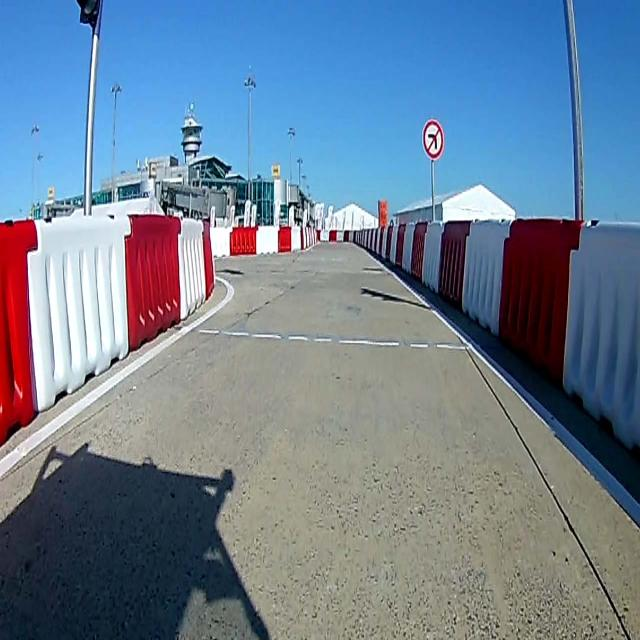soladonulmez: (423, 120, 443, 159)
